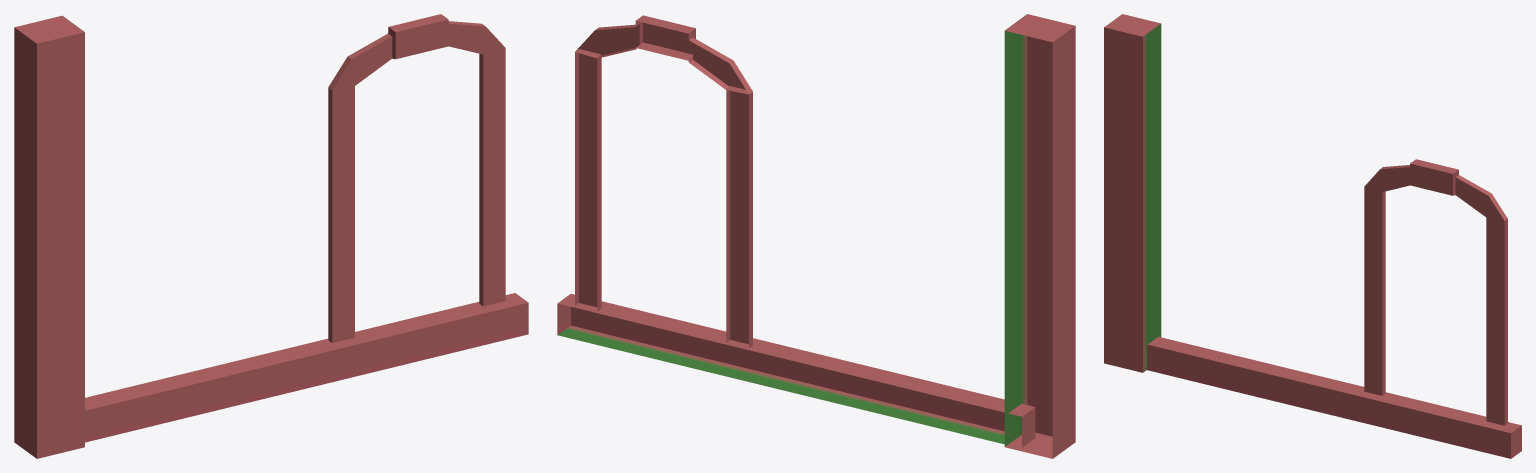
The model's file is Backyard_Planks.fbx.
3 renders of one model, left to right at view 1: azimuth 30°, elevation 25°; view 2: azimuth 150°, elevation 25°; view 3: azimuth 330°, elevation 25°, orthographic. The views are drawn at different scales.
Visible parts, largest first — view 1: Backyard_Planks; view 2: Backyard_Planks; view 3: Backyard_Planks.
Part boxes in pixels (bbox=[...]): Backyard_Planks: bbox=[14, 14, 528, 458]; Backyard_Planks: bbox=[557, 14, 1075, 458]; Backyard_Planks: bbox=[1104, 14, 1521, 458].
Bounding box in the file's own units: 501 × 401 × 39.54.
